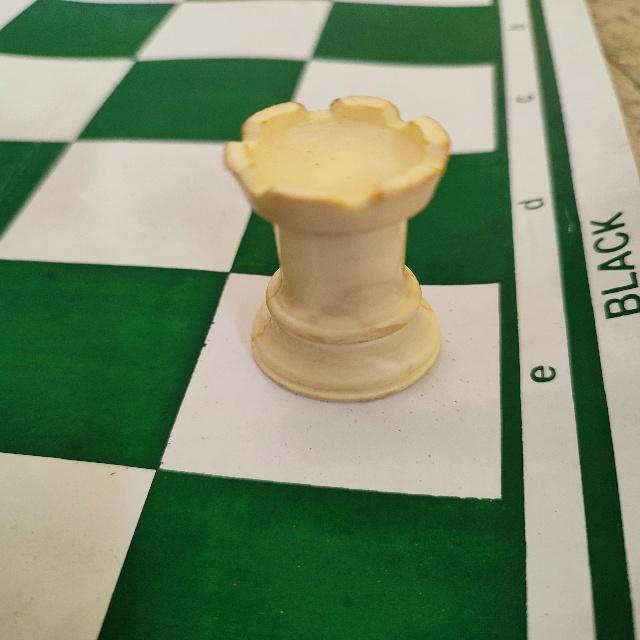Rook: (218, 92, 453, 406)
